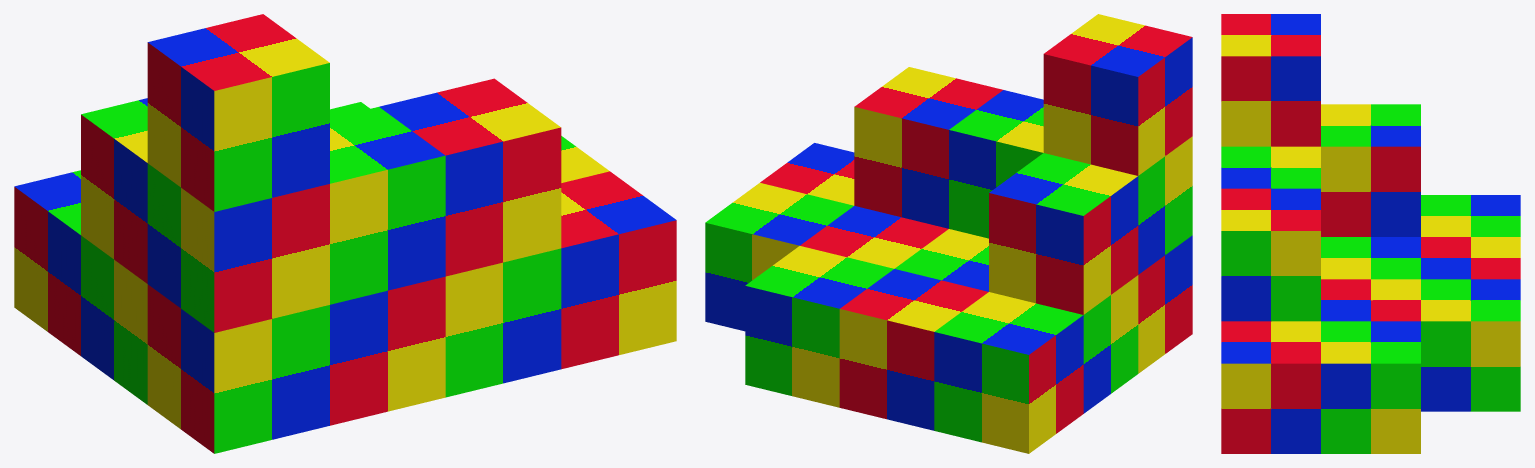
File: Structure.obj
3 views of the same model, side by side, from view 1: azimuth 30°, elevation 25°; view 2: azimuth 150°, elevation 25°; view 3: azimuth 270°, elevation 25° (orthographic). The views are drawn at different scales.
Visible parts, largest first — view 1: Cube.007; view 2: Cube.007; view 3: Cube.007.
Part boxes in pixels (bbox=[...]): Cube.007: bbox=[14, 14, 676, 453]; Cube.007: bbox=[705, 14, 1192, 453]; Cube.007: bbox=[1221, 14, 1520, 453].
Size of the model in its own units: 8 by 6 by 6.
